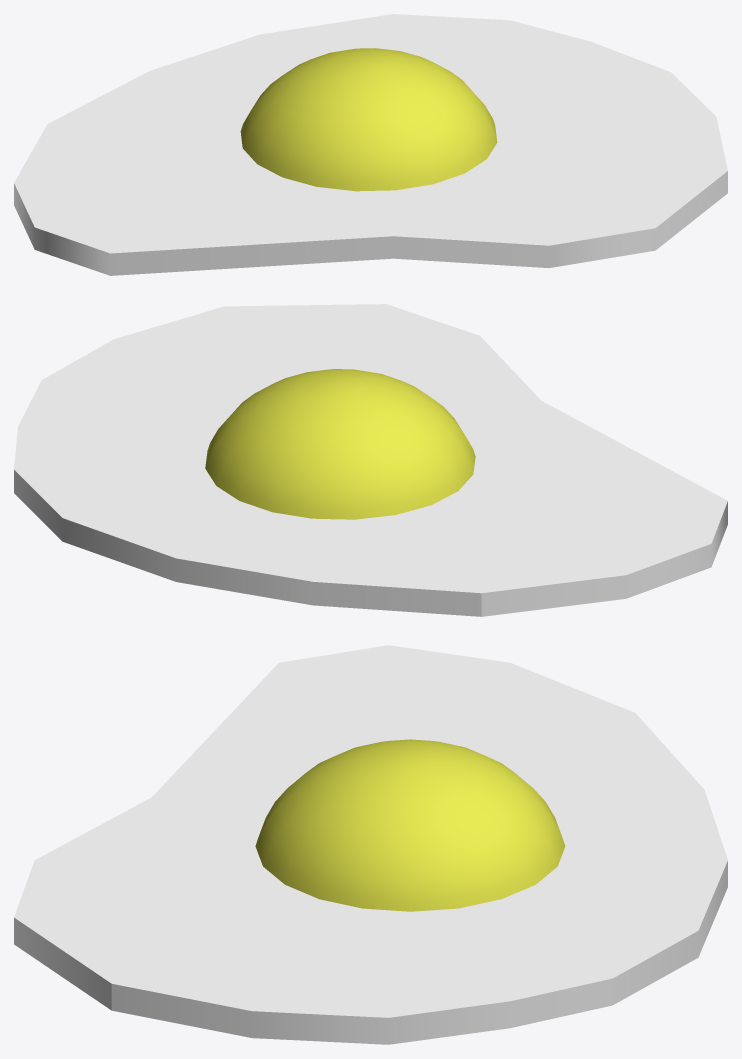
The model's file is CookedEgg.fbx.
3 renders of one model, top to bottom at view 1: azimuth 30°, elevation 25°; view 2: azimuth 150°, elevation 25°; view 3: azimuth 270°, elevation 25°, orthographic. The views are drawn at different scales.
Visible parts, largest first — view 1: pCube36, pSphere3; view 2: pCube36, pSphere3; view 3: pCube36, pSphere3.
Part boxes in pixels (x1=…): pCube36: x1=14, y1=14, x2=727, y2=275; pSphere3: x1=240, y1=48, x2=497, y2=191; pCube36: x1=14, y1=304, x2=727, y2=616; pSphere3: x1=205, y1=369, x2=475, y2=519; pCube36: x1=14, y1=645, x2=727, y2=1044; pSphere3: x1=255, y1=739, x2=565, y2=911.
Bounding box in the file's own units: 0.114 × 0.0165 × 0.0923.
